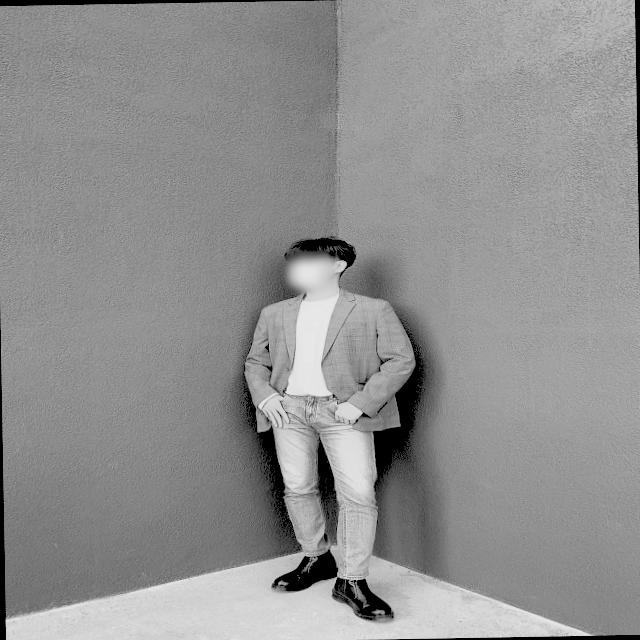blazer: (243, 287, 417, 430), (262, 383, 380, 585)
